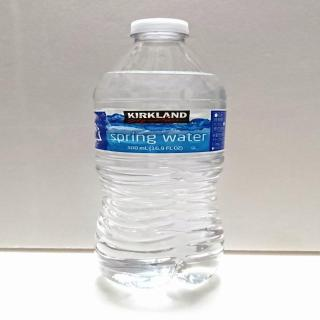Plastic-bottle: (78, 13, 238, 300)
